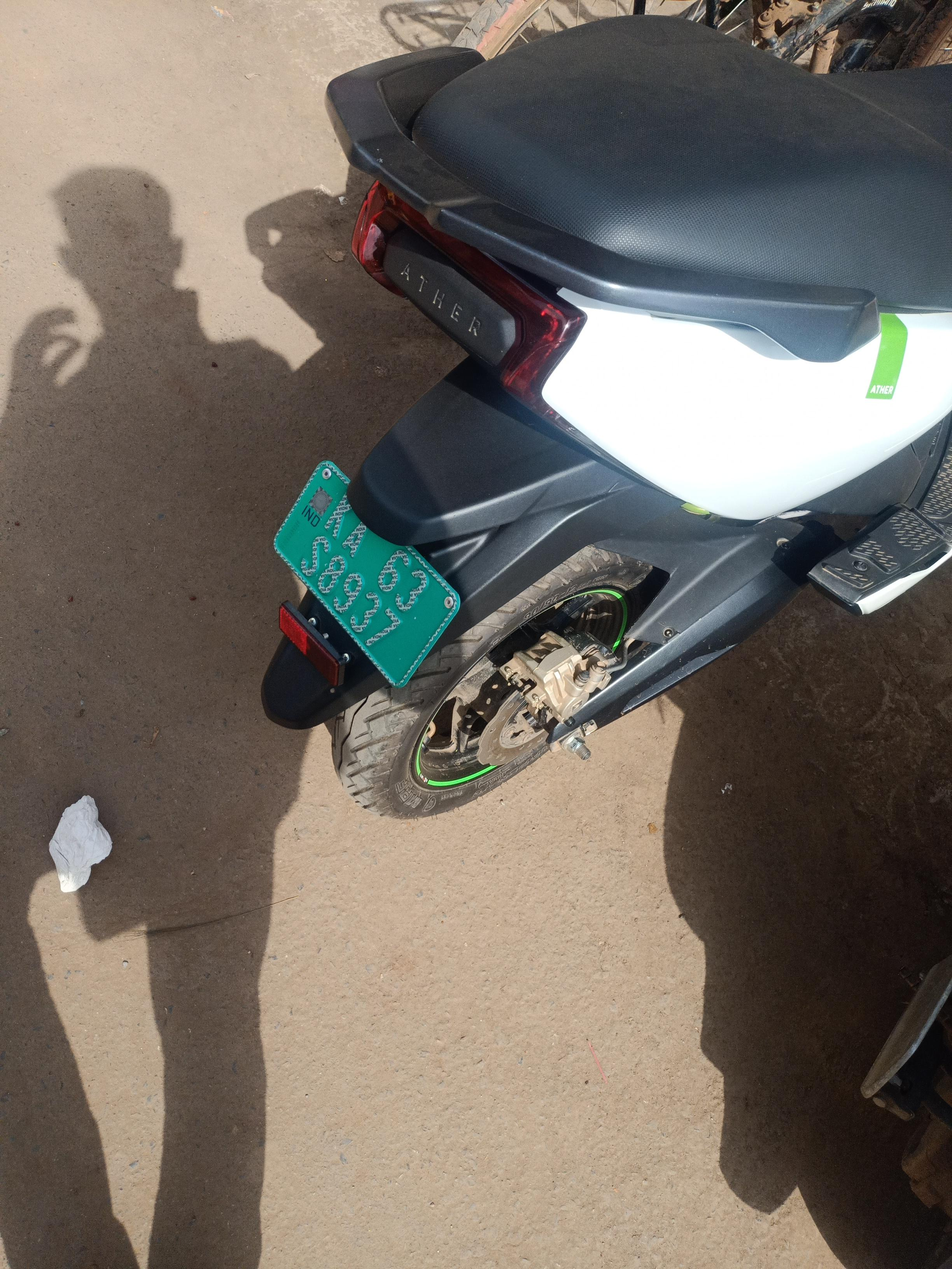green license plate: (266, 459, 470, 694)
